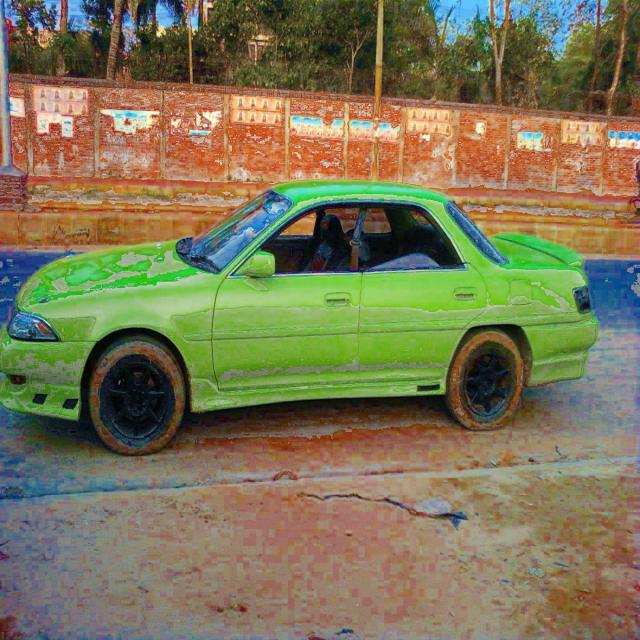green: (1, 175, 596, 441)
